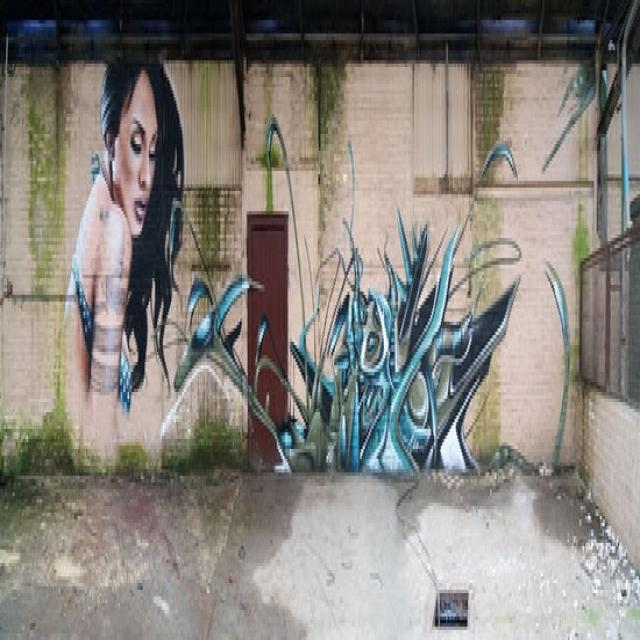-: (175, 112, 513, 478), (66, 49, 186, 452)
